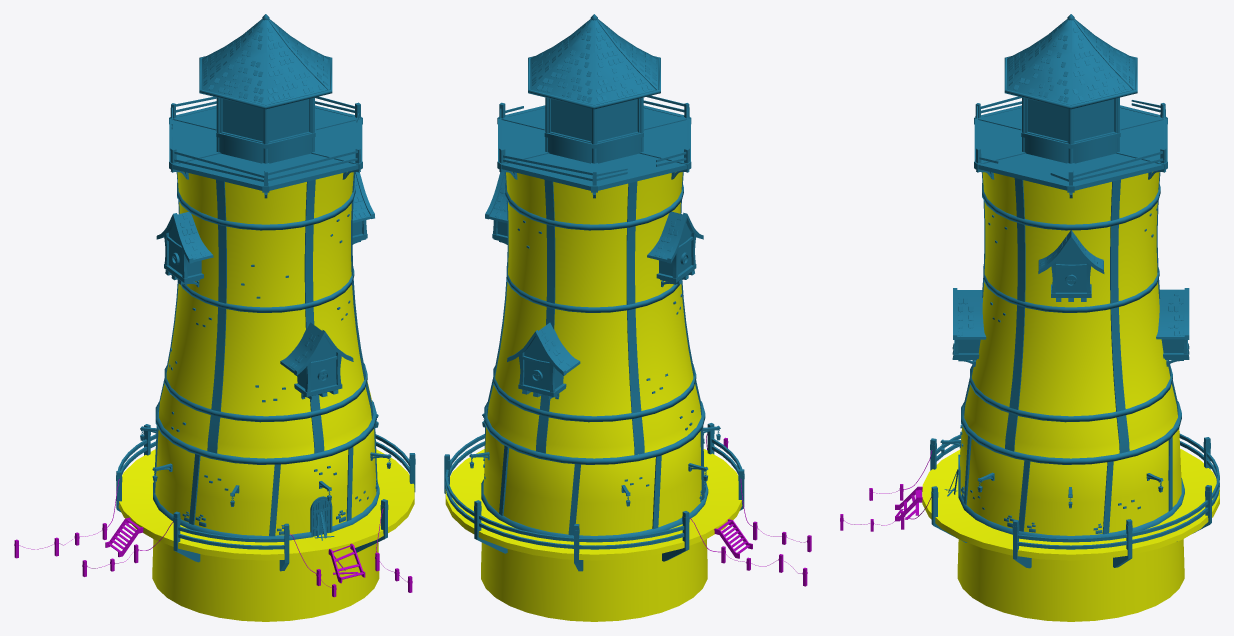
File: All Phare_LowV2good.fbx
3 renders of one model, left to right at view 1: azimuth 30°, elevation 25°; view 2: azimuth 150°, elevation 25°; view 3: azimuth 270°, elevation 25°, orthographic.
Visible parts, largest first — view 1: Phare_low, Phare2_low, ContourPhareH_low, platforme1_low, toit_low, ContourPhareV_low, barriere_low, Tuiles_low, poutre2_low, vitre2_low, toit3_low, MurFond_low (+11 smaller); view 2: Phare_low, Phare2_low, ContourPhareH_low, platforme1_low, toit_low, ContourPhareV_low, barriere_low, Tuiles_low, poutre2_low, vitre2_low, toit3_low, MurFond_low (+9 smaller); view 3: Phare_low, Phare2_low, ContourPhareH_low, platforme1_low, toit_low, ContourPhareV_low, barriere_low, Tuiles_low, poutre2_low, vitre2_low, toit2_low, toit3_low (+9 smaller).
Part boxes in pixels (x1,y1,x2,y2): Phare_low: [152, 172, 379, 621]; Phare2_low: [118, 449, 414, 560]; ContourPhareH_low: [153, 183, 379, 540]; platforme1_low: [164, 108, 367, 396]; toit_low: [201, 19, 329, 104]; ContourPhareV_low: [158, 172, 373, 453]; barriere_low: [118, 96, 409, 549]; Tuiles_low: [180, 24, 369, 369]; poutre2_low: [169, 56, 362, 190]; vitre2_low: [222, 99, 309, 141]; toit3_low: [156, 19, 374, 375]; MurFond_low: [169, 221, 362, 533]; Phare_low: [481, 172, 707, 621]; Phare2_low: [445, 449, 742, 560]; ContourPhareH_low: [481, 183, 708, 538]; platforme1_low: [492, 108, 696, 397]; toit_low: [530, 19, 658, 104]; ContourPhareV_low: [487, 172, 701, 454]; barriere_low: [445, 95, 742, 549]; Tuiles_low: [494, 23, 682, 369]; poutre2_low: [498, 56, 690, 190]; vitre2_low: [551, 99, 637, 141]; toit3_low: [485, 19, 703, 375]; MurFond_low: [497, 221, 691, 390]; Phare_low: [957, 172, 1184, 621]; Phare2_low: [922, 448, 1219, 560]; ContourPhareH_low: [959, 183, 1184, 538]; platforme1_low: [954, 108, 1187, 358]; toit_low: [1007, 19, 1135, 104]; ContourPhareV_low: [963, 172, 1178, 453]; barriere_low: [936, 96, 1219, 549]; Tuiles_low: [958, 23, 1183, 336]; poutre2_low: [974, 56, 1167, 190]; vitre2_low: [1027, 99, 1114, 141]; toit2_low: [957, 230, 1184, 339]; toit3_low: [953, 19, 1189, 339].
Size of the model in its own units: 2636 by 3905 by 2402.
